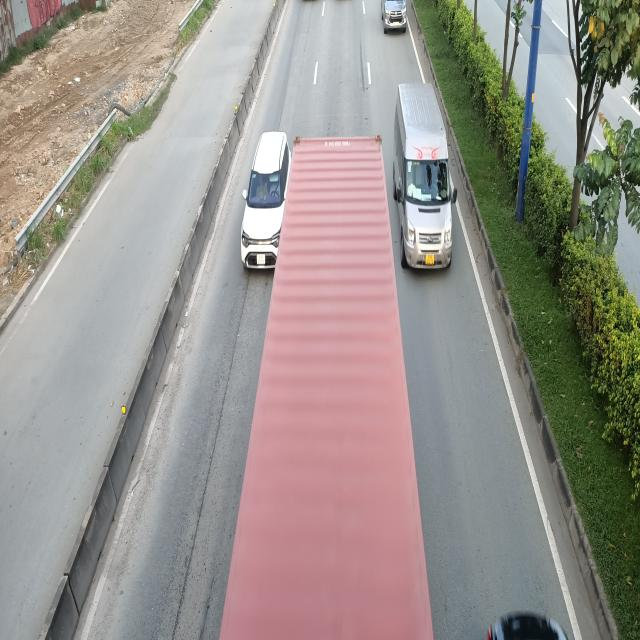car: (240, 133, 296, 273)
container: (220, 139, 432, 640)
van: (394, 83, 456, 268)
